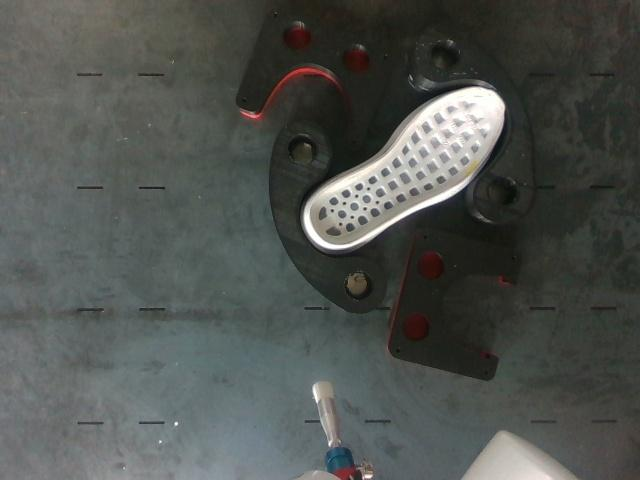shoes: (309, 88, 503, 247)
